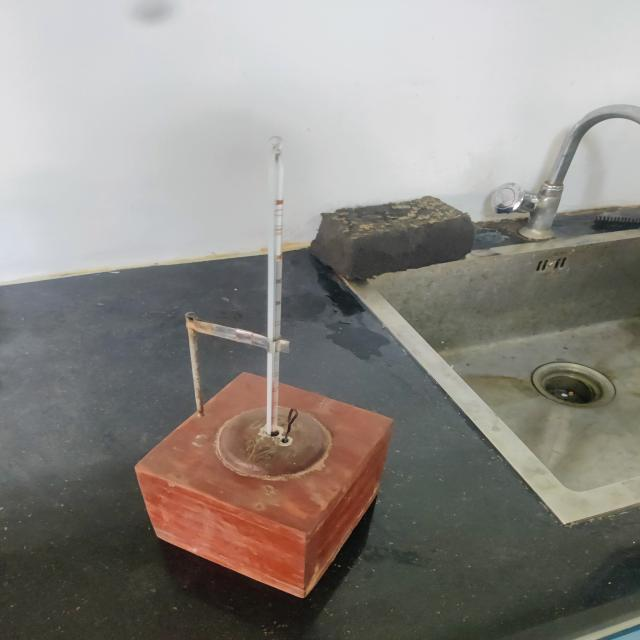Calorimeter: (94, 101, 454, 628)
